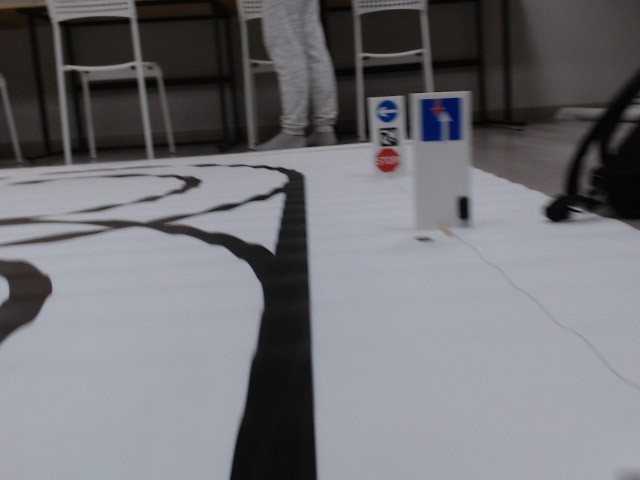Stop: (375, 148, 401, 174)
priority_movement: (416, 98, 465, 143)
